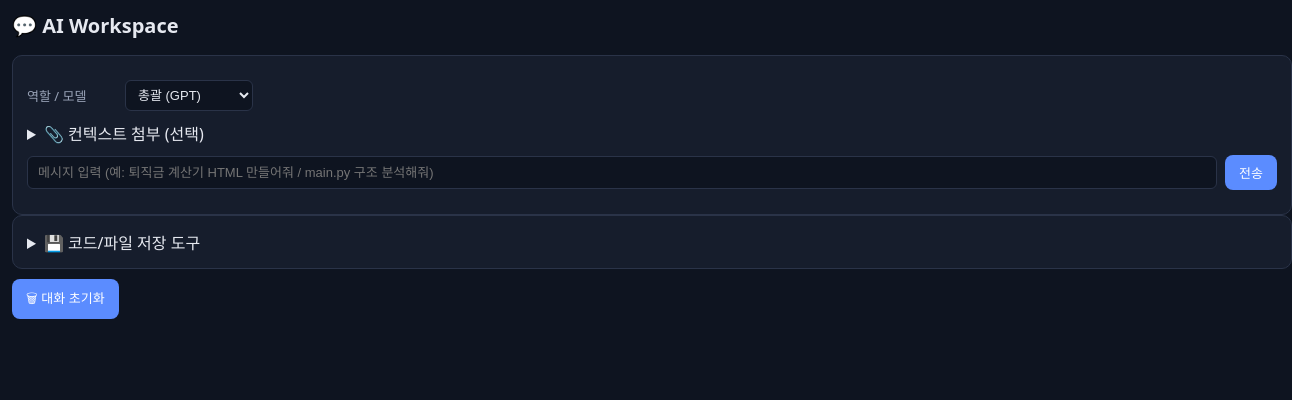
it: AiWorkspace page › reset clears the conversation
Expected: the dropdown labelled "역할 / 모델" shows "총괄 (GPT)", [125,80,253,111]
Type "q" into the field labelled "메시지 입력". click: point(622, 172)
box: [27,156,1217,189]
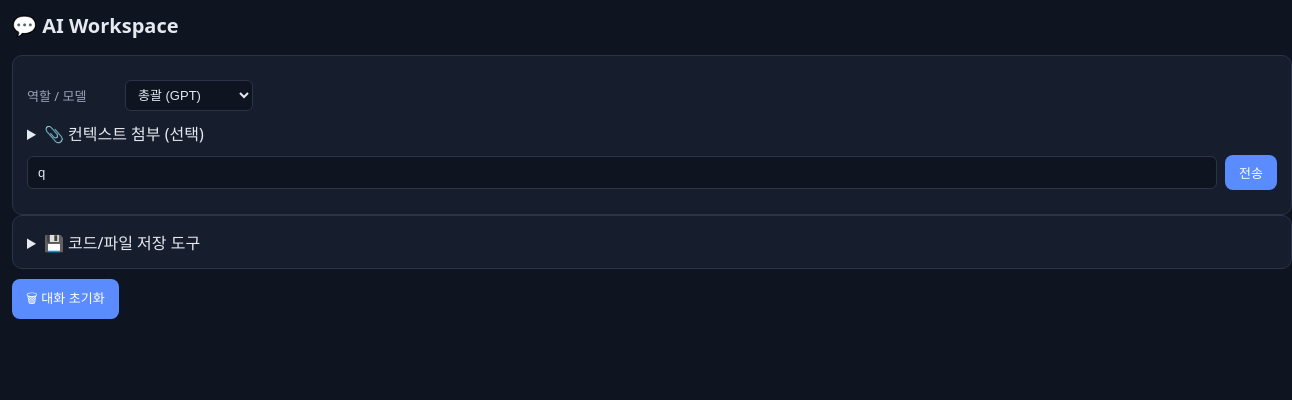
Click the button "전송". click: point(1251, 172)
box: [1225,155,1277,190]
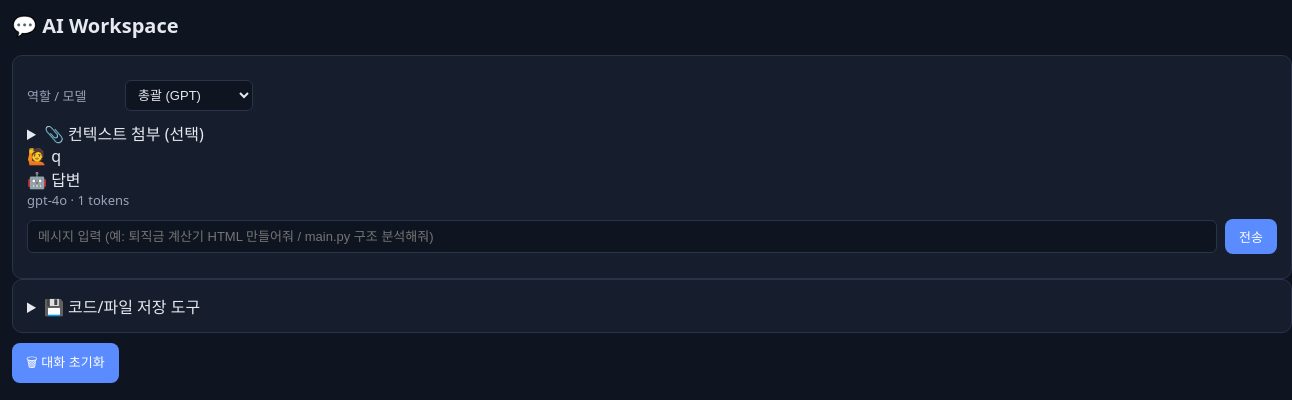
Expected: the text "답변" is shown, [51,169,81,191]
Click the button "🗑 대화 초기화". click: point(65, 363)
box: [12,343,119,383]
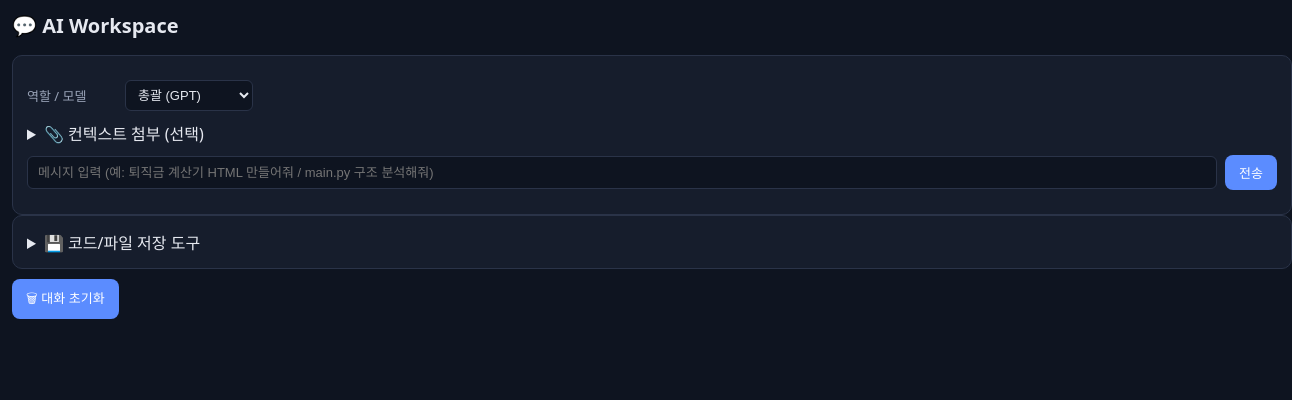
Expected: the text "답변" is gone
